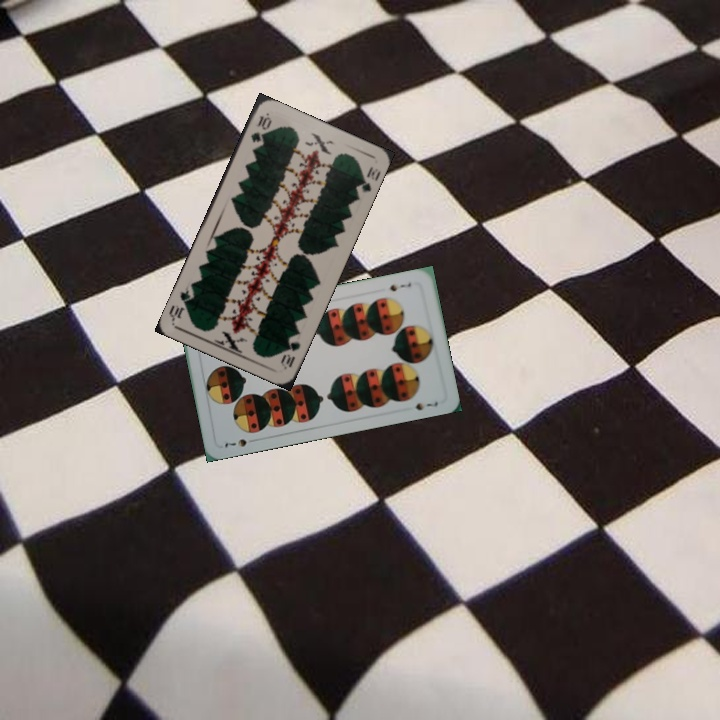G10: (276, 338, 303, 371), (247, 112, 273, 145)
S7: (221, 435, 259, 451), (386, 279, 414, 294)
